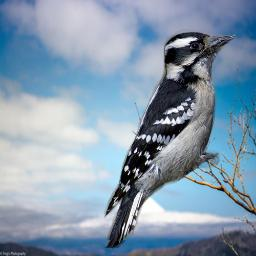Woodpecker: (104, 28, 236, 251)
